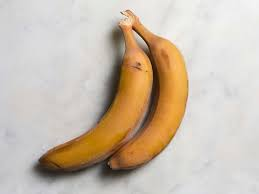banana: (34, 12, 190, 178)
